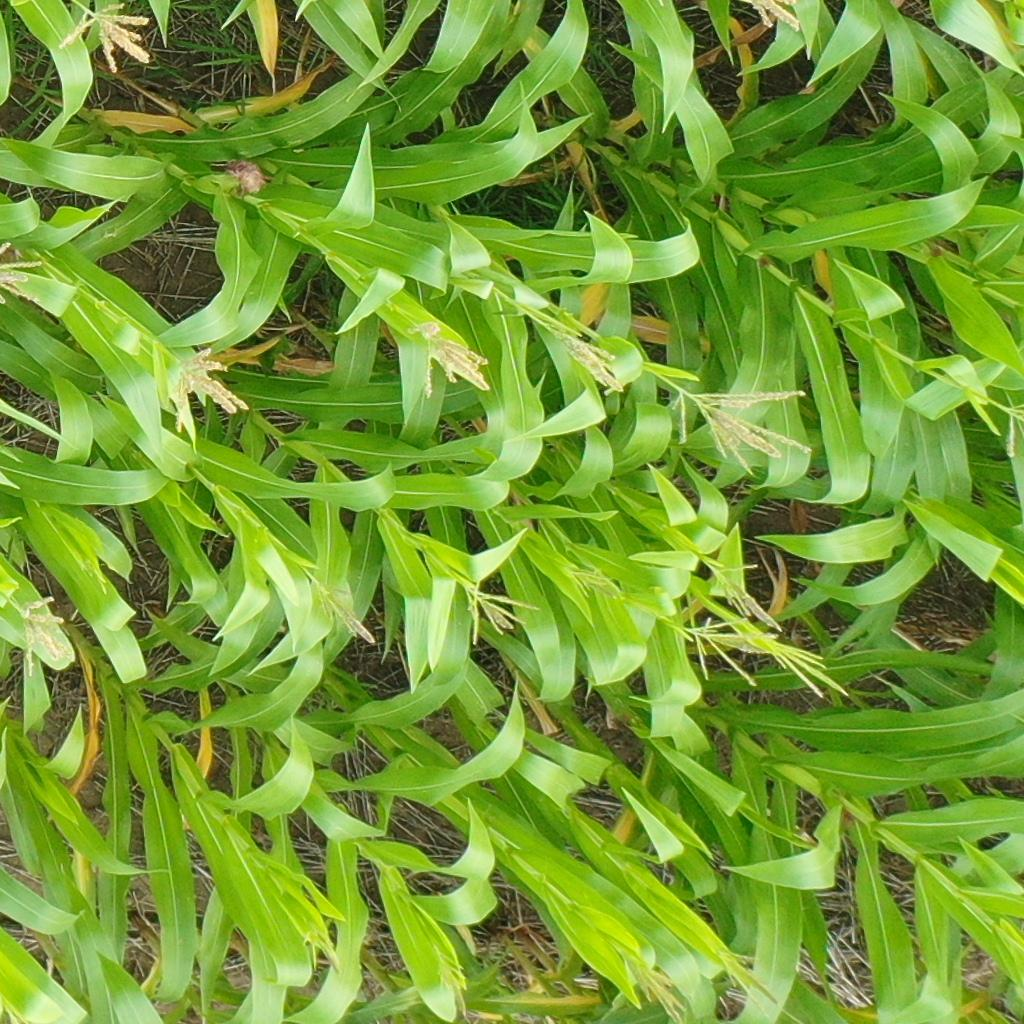Tassel: (673, 381, 816, 476), (161, 344, 250, 434), (537, 306, 624, 396), (58, 1, 157, 75), (1, 587, 79, 675), (411, 319, 495, 400), (463, 570, 542, 646), (616, 945, 690, 1024), (684, 617, 763, 689), (710, 560, 786, 633), (765, 636, 849, 700), (716, 946, 782, 1018), (314, 580, 377, 645), (1, 239, 46, 305), (433, 950, 471, 1018), (301, 925, 349, 976), (569, 564, 626, 604), (746, 1, 804, 31), (1001, 400, 1024, 425)
